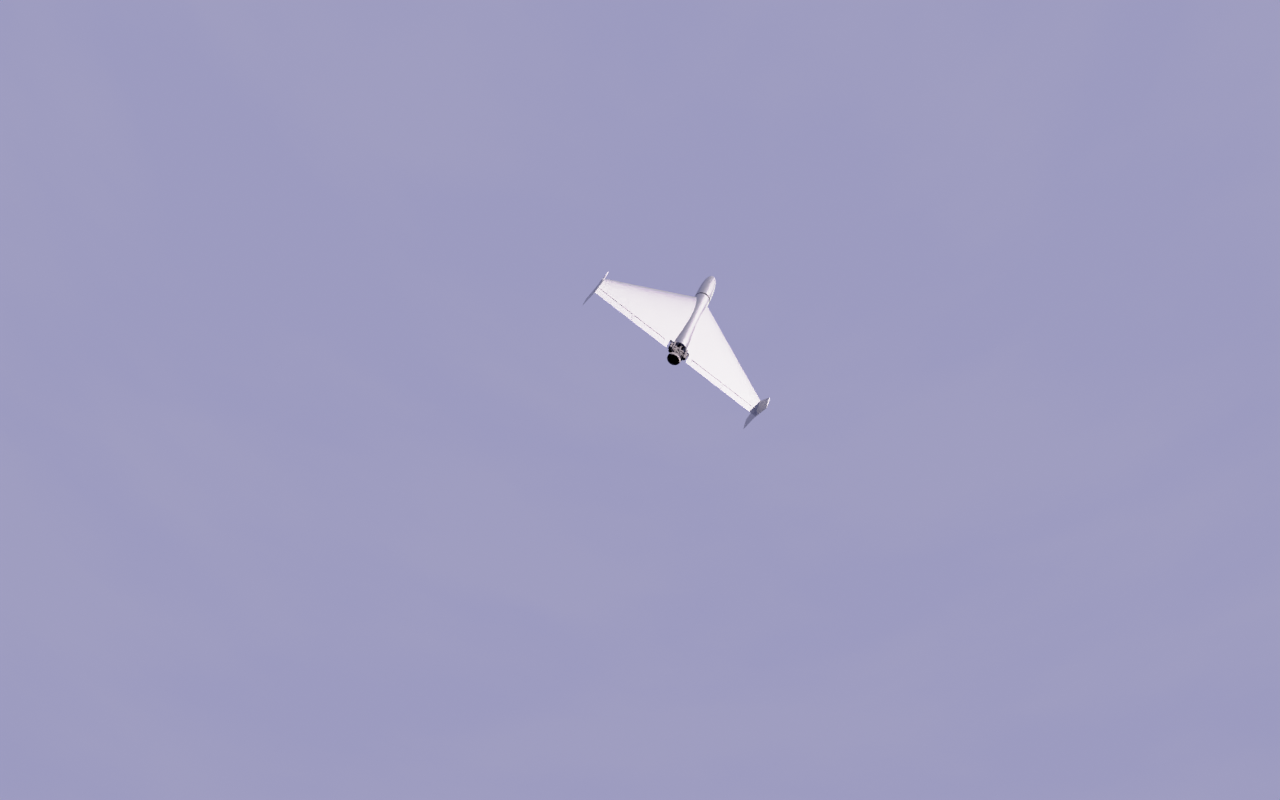shahed: (583, 272, 772, 431)
